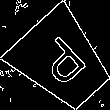P_SE: (31, 31, 93, 93)
